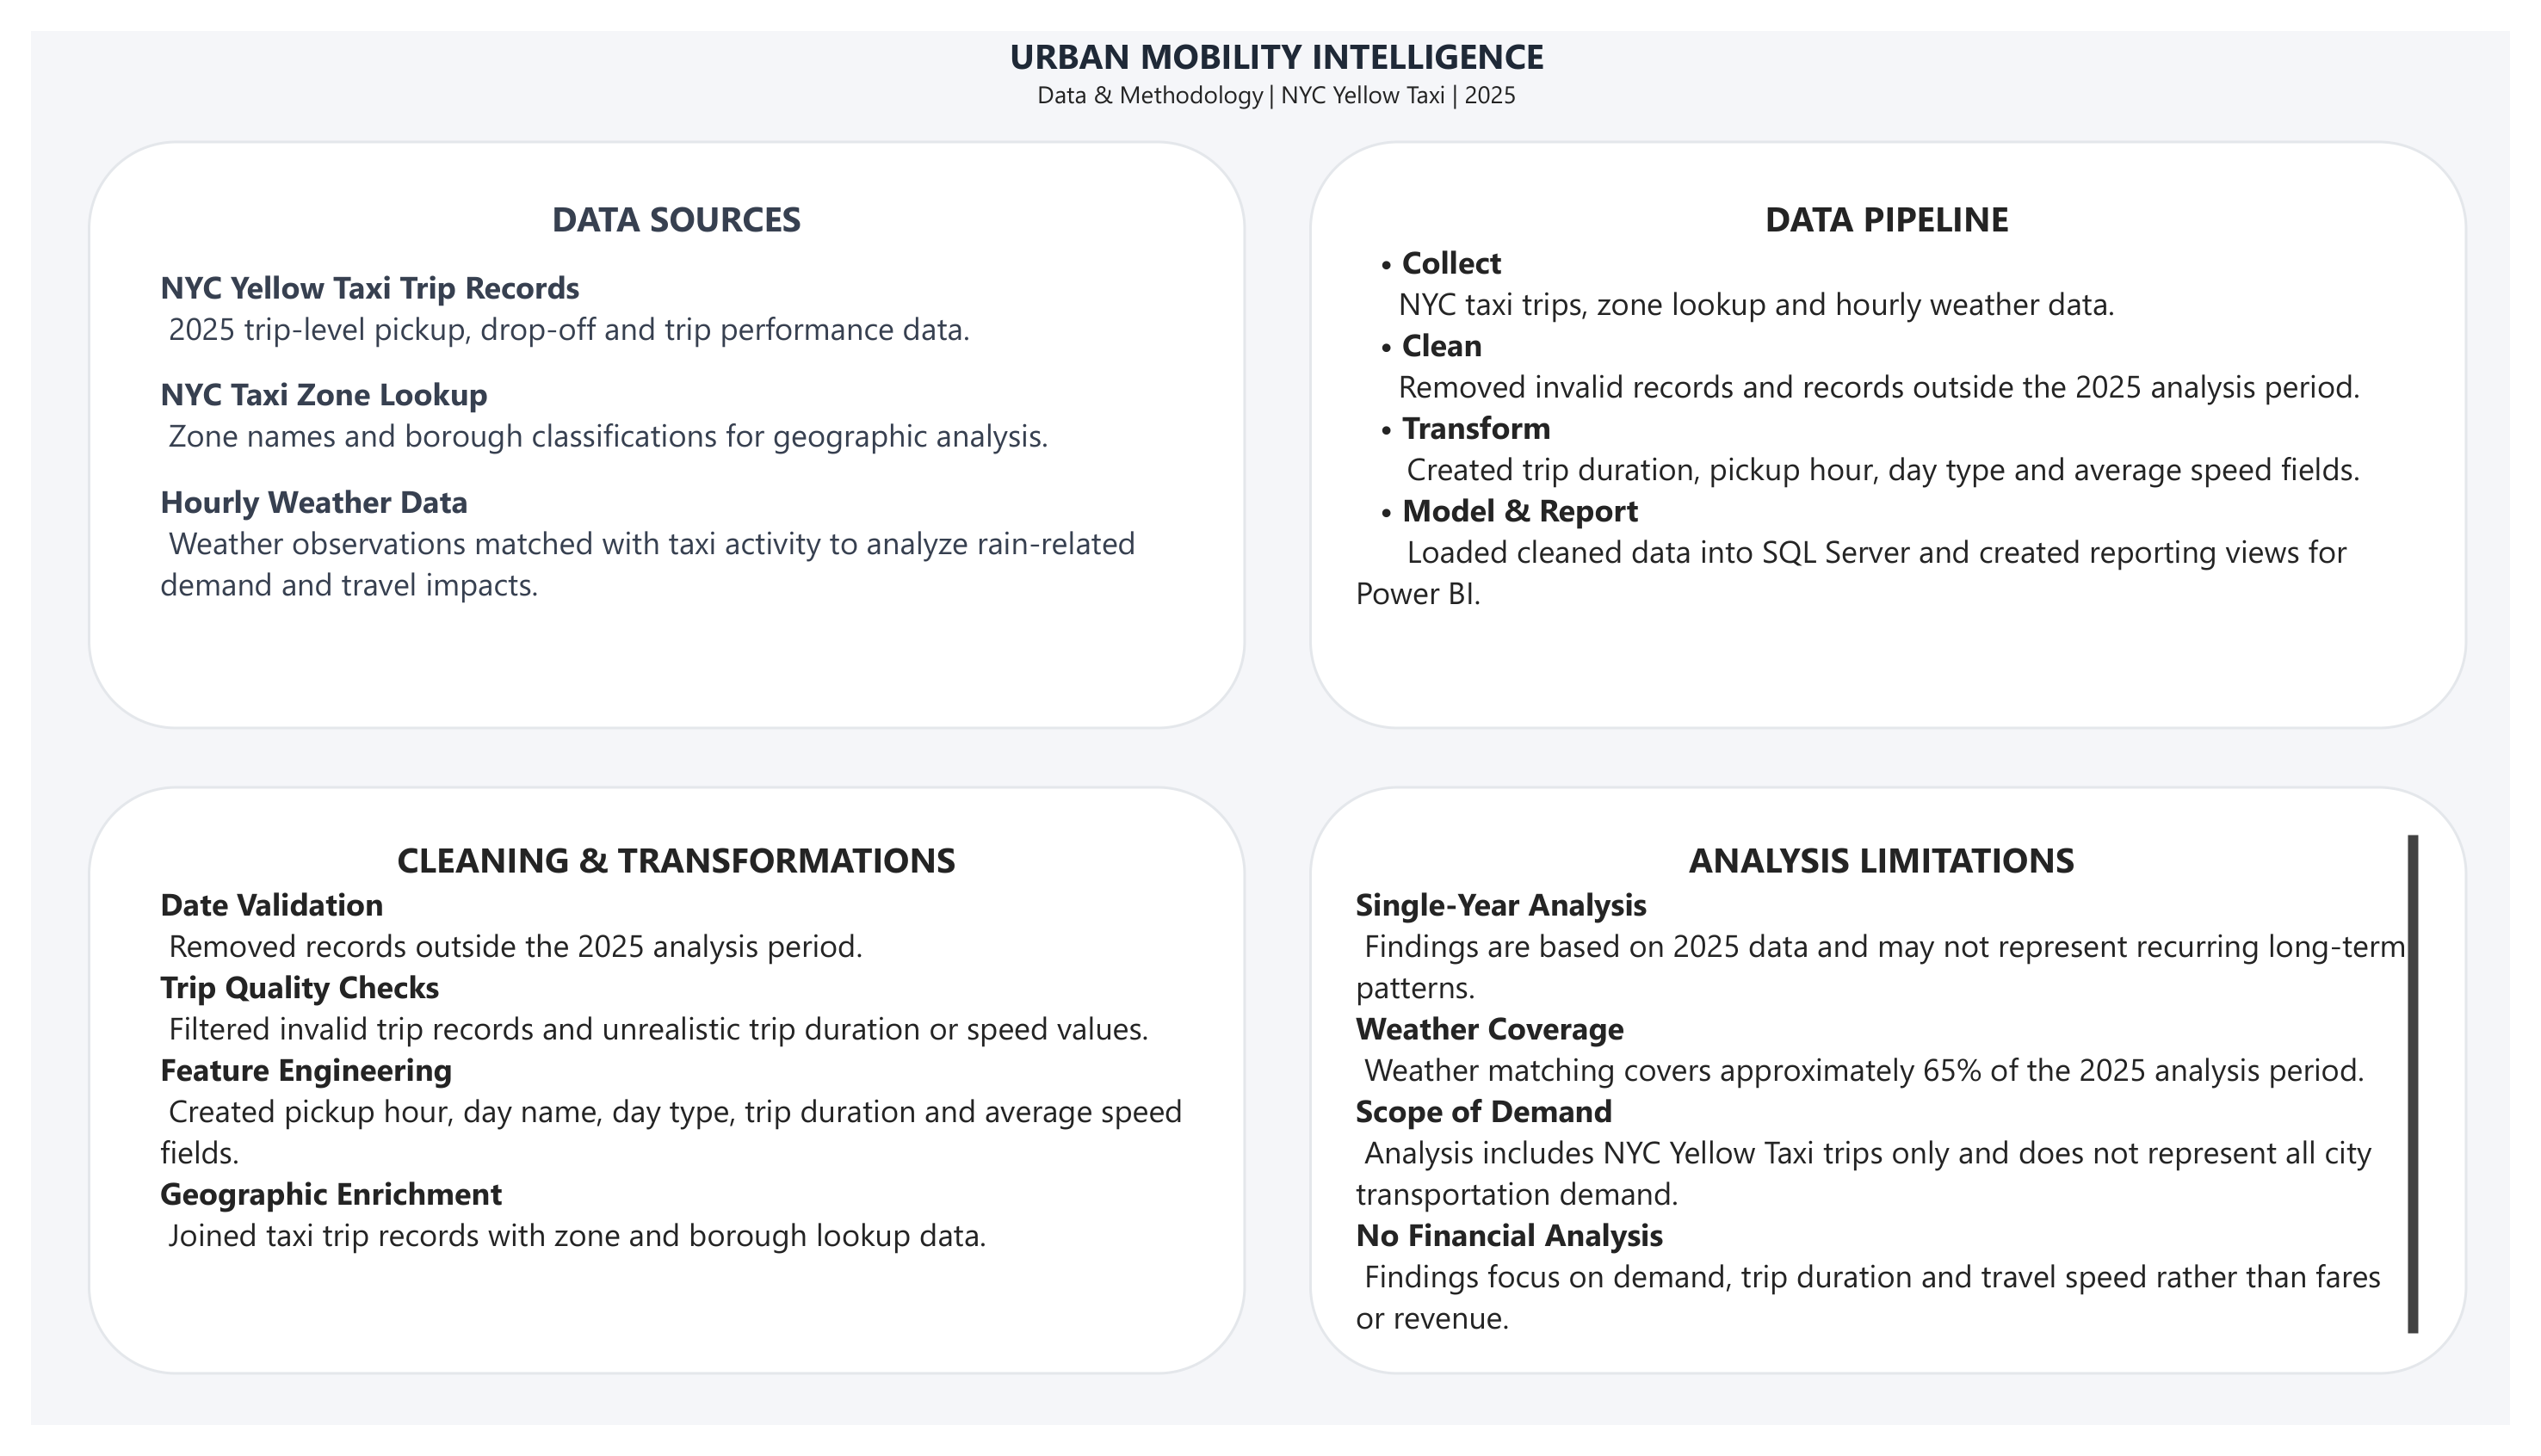

This screenshot's page, from the dashboard's own definition file:
{"tool":"powerbi","page":{"name":"Data & Methodology","canvas":[1920,1080],"ordinal":3},"visuals":[{"type":"textbox","box":[9.6,0,1910.4,85.4],"z":0},{"type":"shape","box":[43.6,84.6,897.4,456.4],"z":1000},{"type":"shape","box":[989.7,84.6,897.4,456.4],"z":2000},{"type":"shape","box":[43.6,584.6,897.4,456.4],"z":3000},{"type":"shape","box":[989.7,584.6,897.4,456.4],"z":4000},{"type":"textbox","box":[100,125.6,800,384.6],"z":4001},{"type":"textbox","box":[1025.6,125.6,823.1,384.6],"z":4002},{"type":"textbox","box":[100,623.1,800,387.2],"z":4003},{"type":"textbox","box":[1025.6,623.1,823.1,387.2],"z":4004}]}

Visuals, with their boxes in screenshot pixels (x1, y1, x2, y2), scaled from the page's 1920x1080 canvas onto the 2541x1456 screenshot:
textbox: box=[13, 0, 2540, 115]
shape: box=[58, 114, 1246, 730]
shape: box=[1310, 114, 2497, 730]
shape: box=[58, 788, 1246, 1404]
shape: box=[1310, 788, 2497, 1404]
textbox: box=[133, 170, 1191, 688]
textbox: box=[1357, 170, 2446, 688]
textbox: box=[133, 840, 1191, 1362]
textbox: box=[1357, 840, 2446, 1362]
